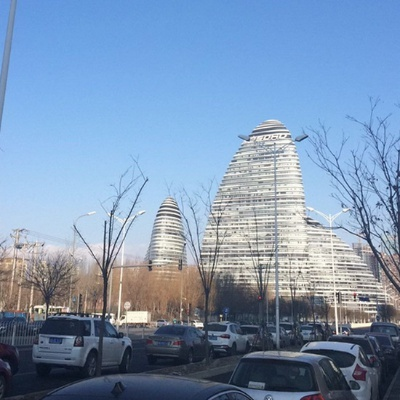car: (46, 366, 242, 400), (234, 349, 355, 400), (35, 313, 133, 374), (297, 338, 379, 397), (144, 321, 214, 369), (328, 335, 387, 367), (202, 317, 246, 358), (236, 311, 270, 350), (369, 320, 400, 352), (264, 321, 288, 348), (279, 320, 301, 342), (298, 322, 321, 341)
traffic light: (113, 259, 194, 275)
